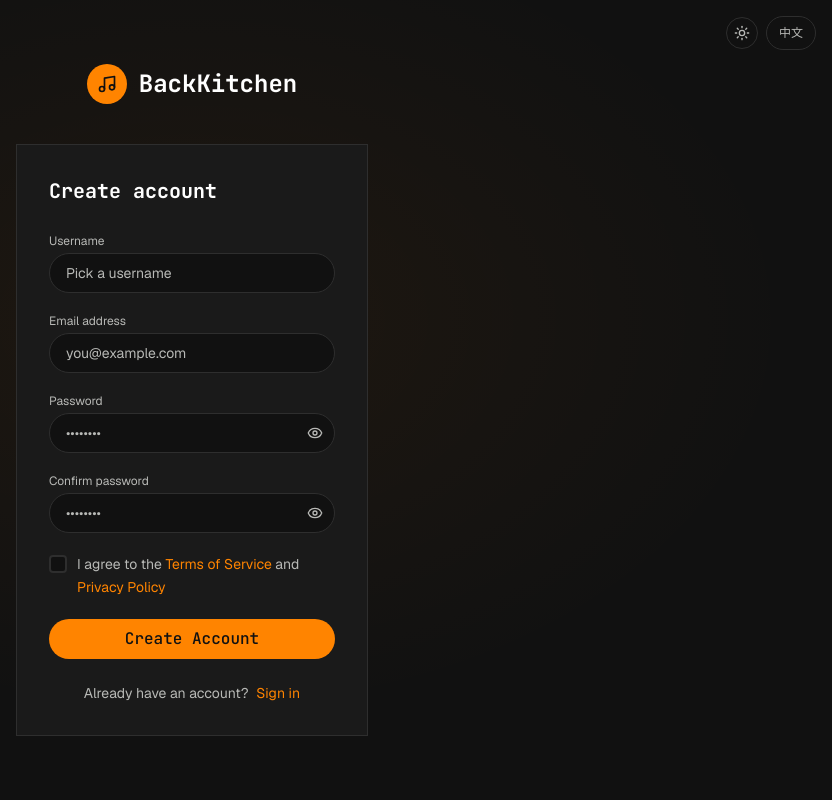
it: RegisterView › shows error when passwords do not match
Type "ada" into the field with placeholder "Pick a username". click: {"x": 192, "y": 273}
box: [49, 253, 335, 293]
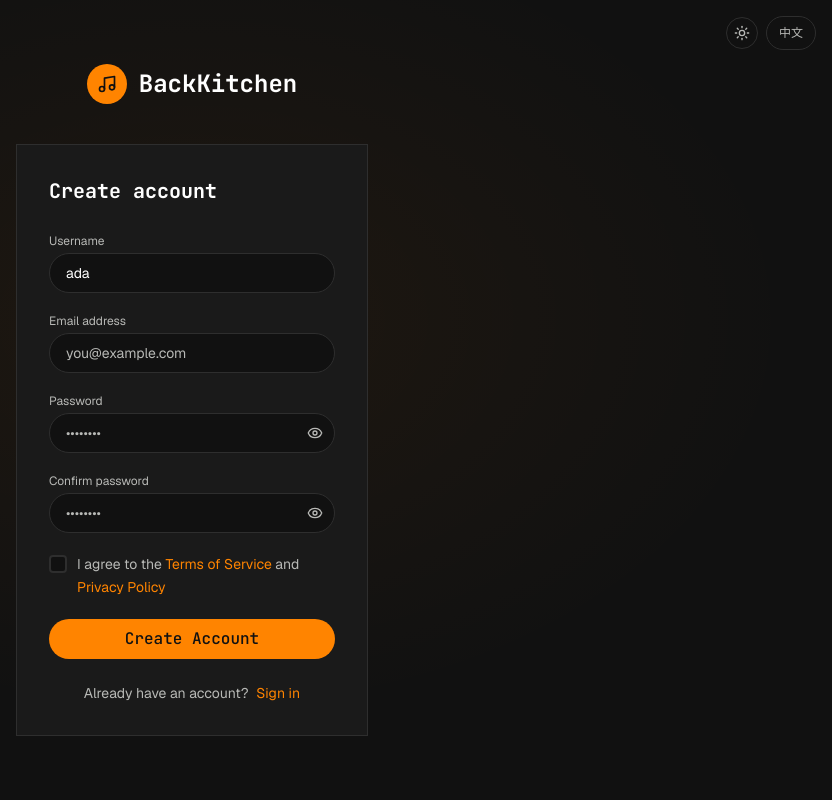
Type "ada@test.com" into the field with placeholder "you@example.com". click: {"x": 192, "y": 353}
box: [49, 333, 335, 373]
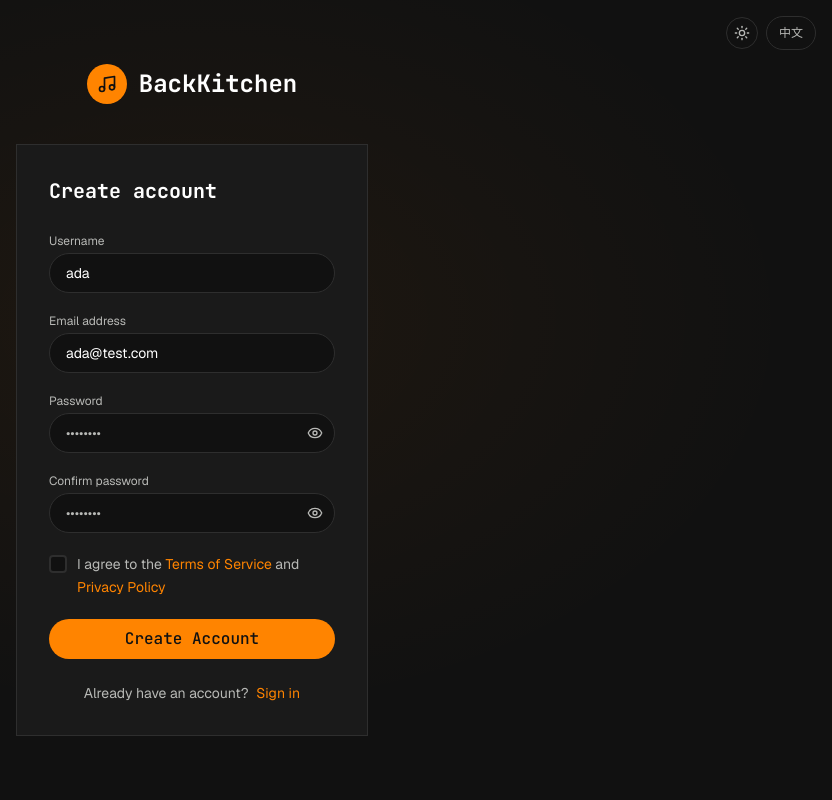
Type "password123" into the 1st password field with placeholder "••••••••". click: {"x": 192, "y": 433}
box: [49, 413, 335, 453]
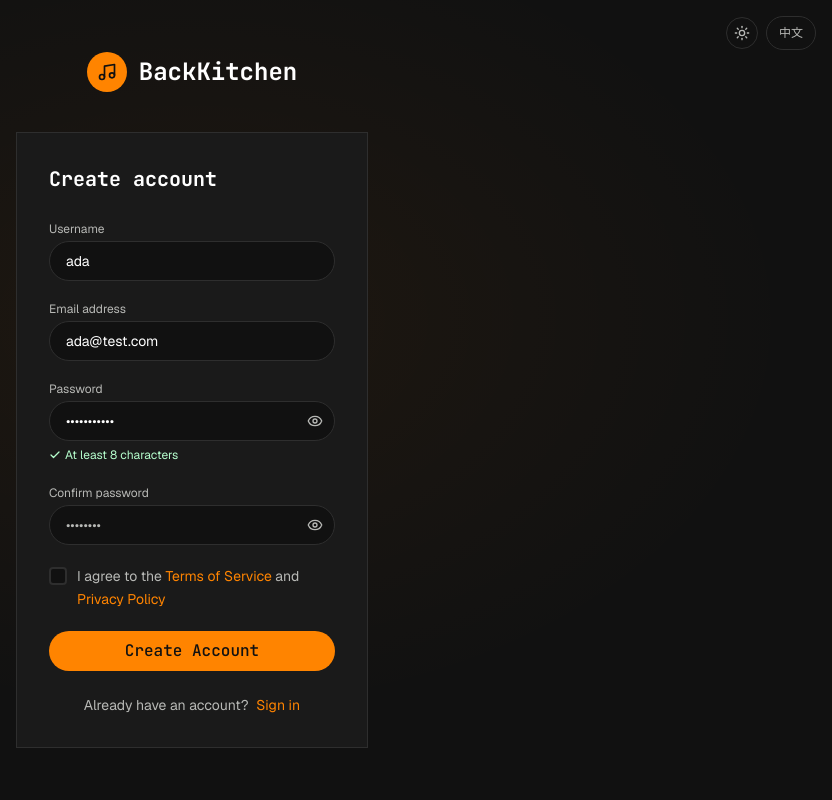
Type "different" into the password field with placeholder "••••••••". click: {"x": 192, "y": 525}
box: [49, 505, 335, 545]
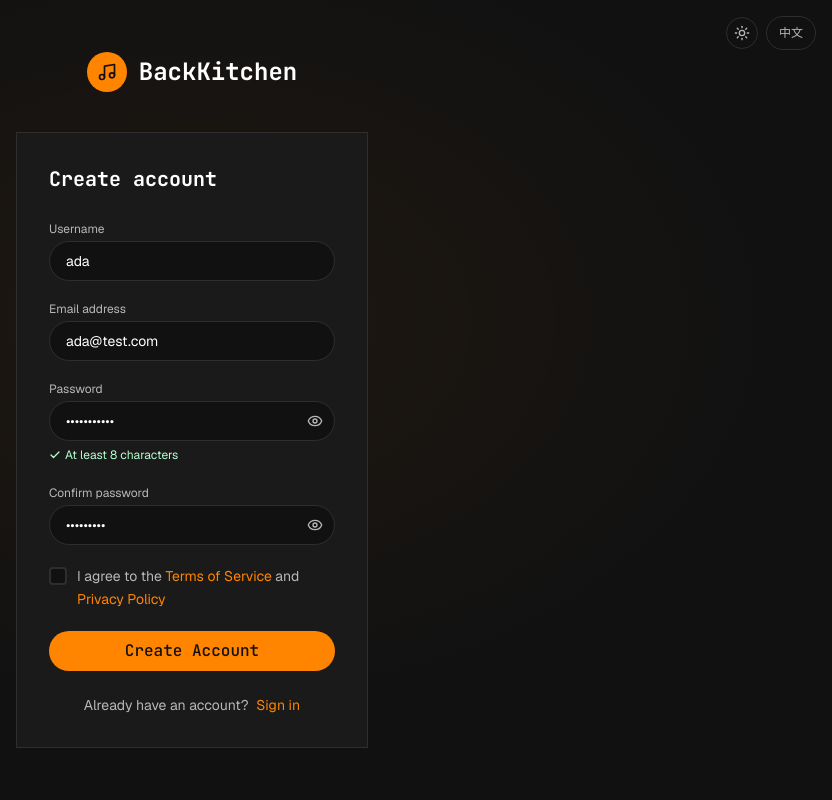
Click the checkbox labelled "I agree to the Terms of Service and Privacy Policy". click: {"x": 58, "y": 576}
box: [49, 567, 67, 585]
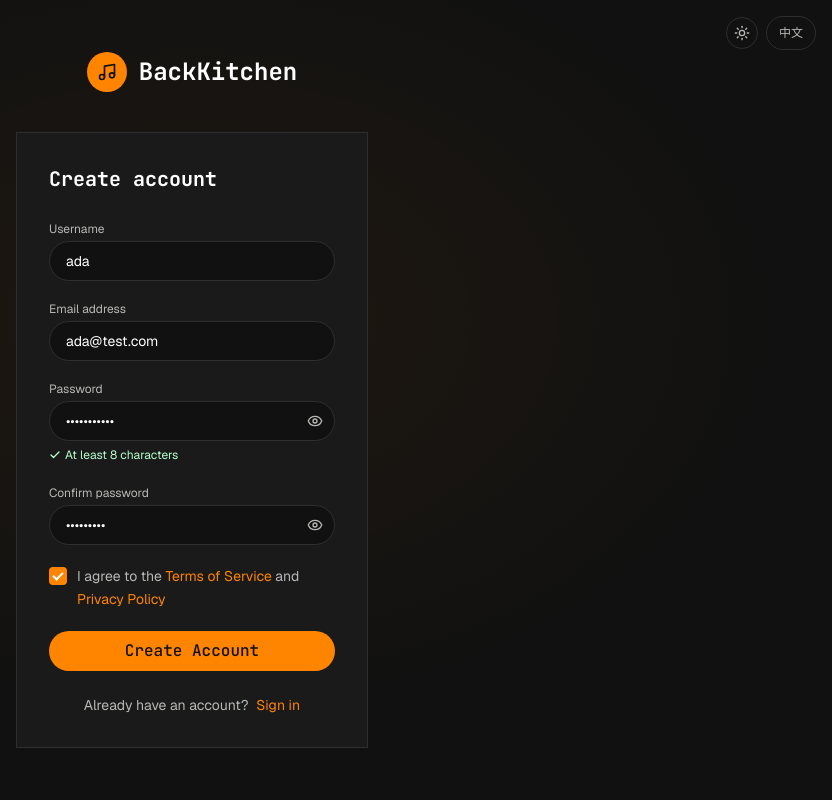
Submit the form, box [49, 221, 335, 671]
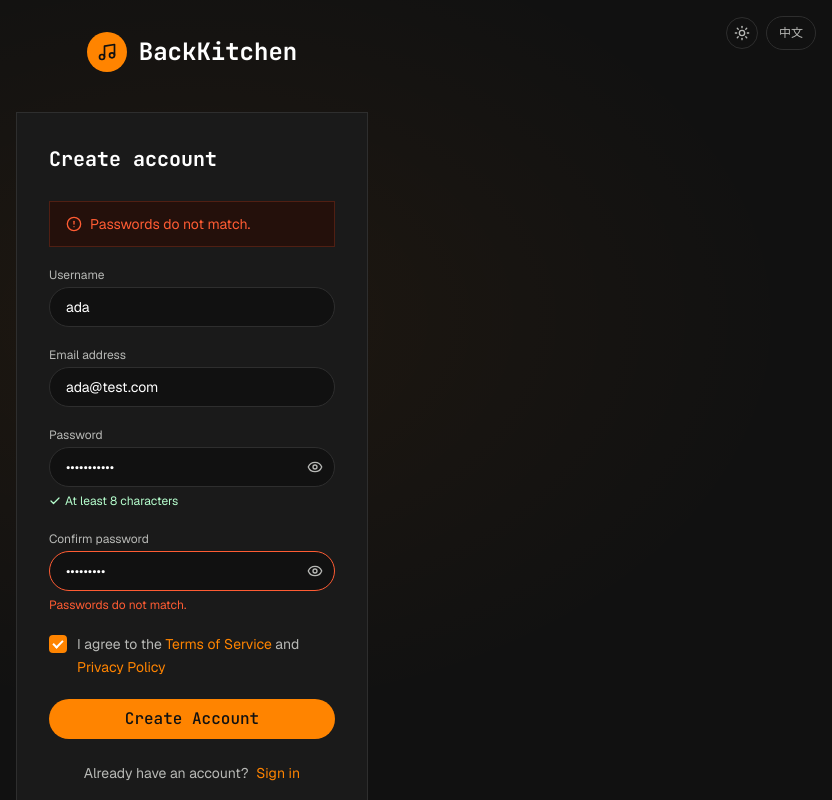
Check: the text "Passwords do not match." is shown, box [90, 214, 250, 234]
